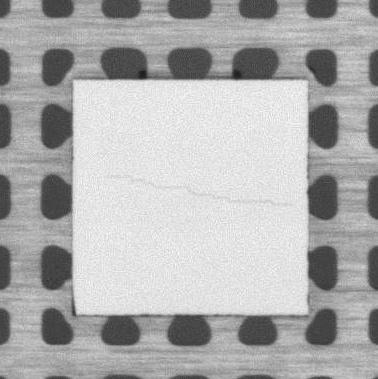DIE_CRACK: (106, 173, 299, 207)
